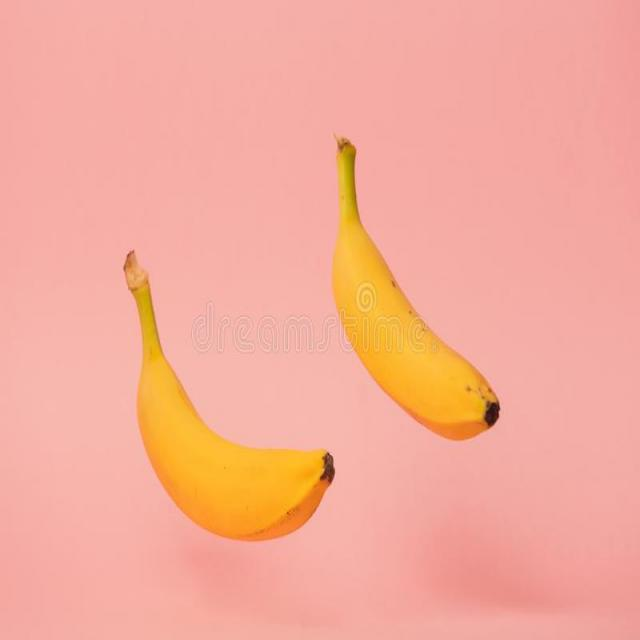Banana: (119, 251, 338, 549), (330, 136, 499, 438)
